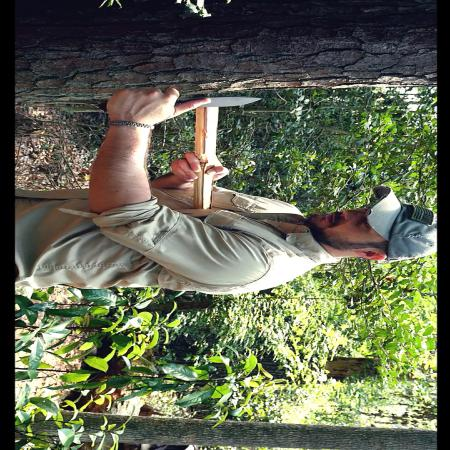long weapon: (119, 84, 267, 120)
